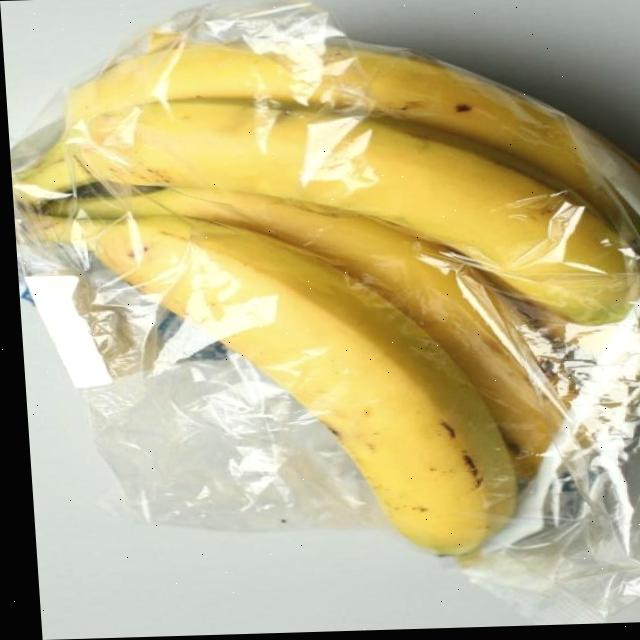banana: (10, 23, 640, 560)
